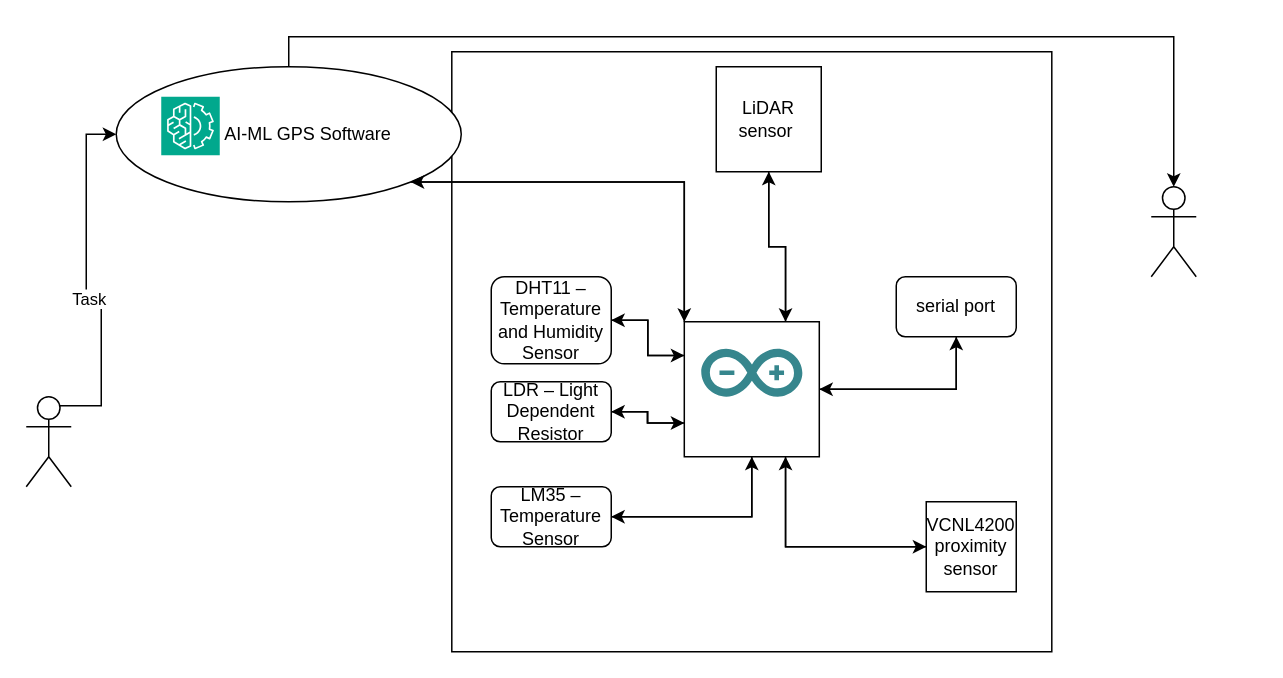
Some shapes in this 1283 by 678 pixel diagram are drawn without their labels. The box of each missing label's shape, as (x1, y1, x2, y2) in pixels:
Actor: (25, 395, 71, 487)
Loders and dumpers: (1150, 185, 1196, 277)
Micro-controller: (683, 320, 819, 457)
